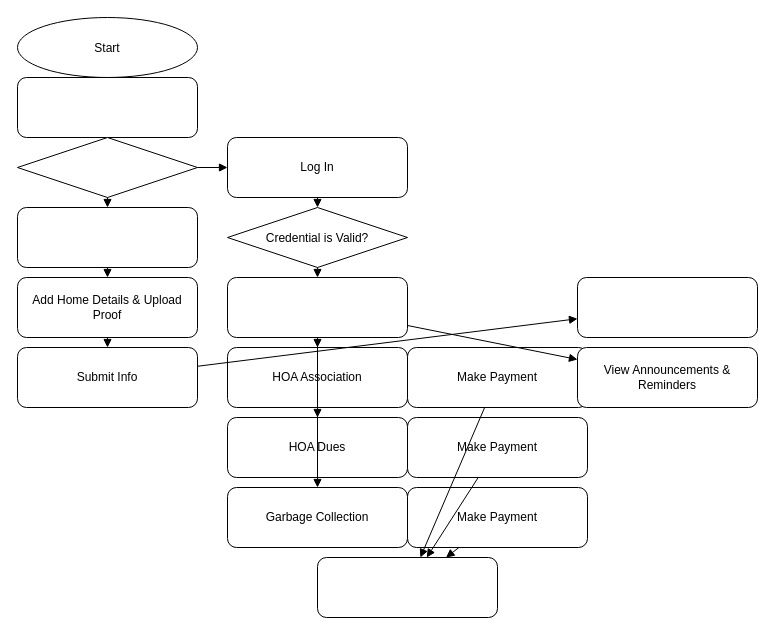
Image size: 775x635. Some labels were removed from this diagram. The centre of each missing label's shape, as x and y in pixels:
Access Portal: the point at 107,107
Already Have an Account?: the point at 107,167
Homeowner Dashboard: the point at 317,307
Homeowner Registration: the point at 107,237
Receive Payment Receipt: the point at 407,587
Send Approval Notice: the point at 667,307
